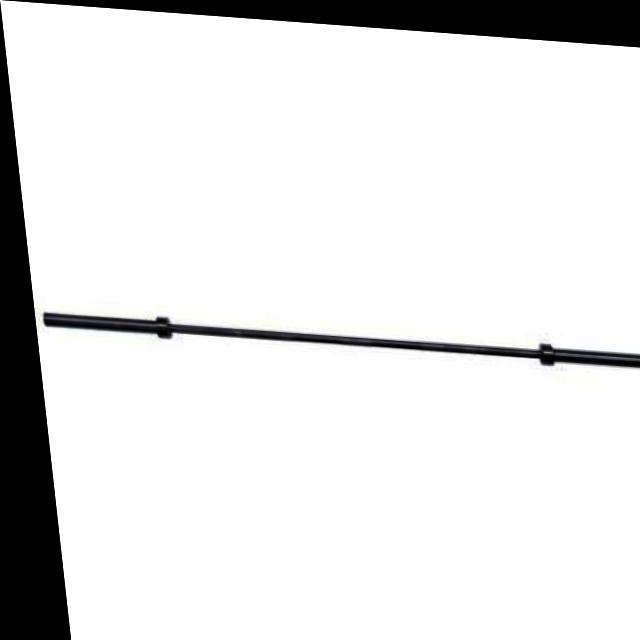barbell: (28, 298, 166, 350)
